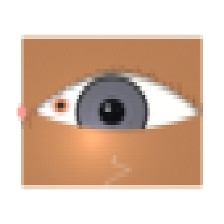foreign_body_visible: (41, 90, 80, 121)
